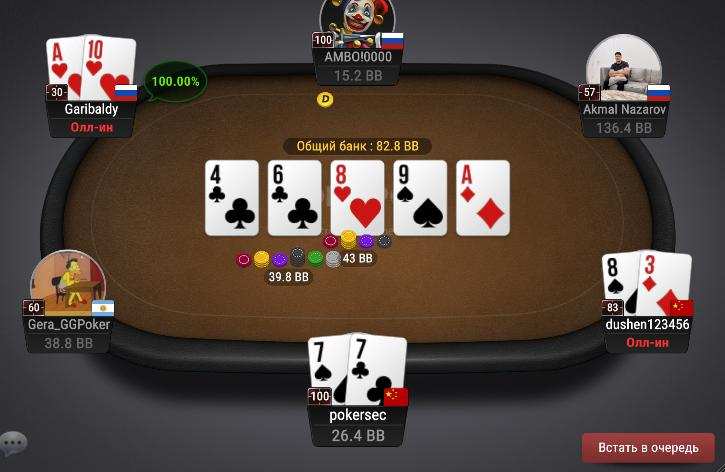10h: (84, 35, 134, 99)
3d: (640, 249, 692, 320)
4c: (205, 159, 259, 234)
6c: (269, 159, 321, 236)
7c: (348, 334, 406, 408)
7s: (308, 336, 352, 407)
8h: (332, 162, 384, 237)
8s: (603, 251, 640, 316)
9s: (394, 161, 446, 235)
Ad: (456, 159, 510, 235)
Ah: (47, 34, 83, 100)
